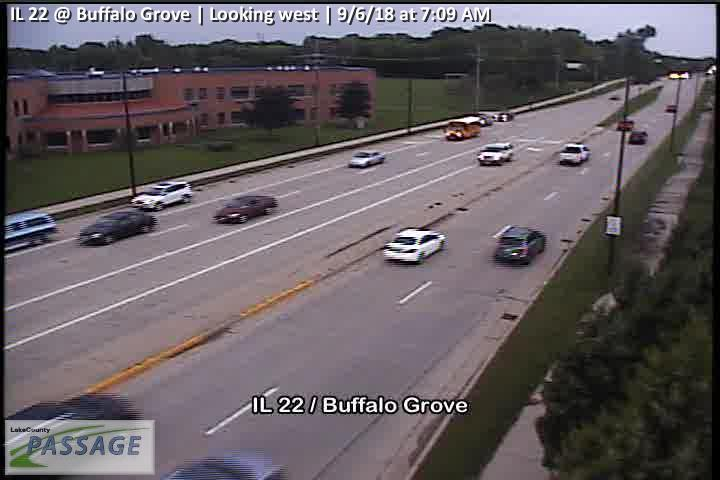SUV: (1, 210, 59, 248), (493, 226, 546, 264), (131, 181, 193, 211), (476, 142, 513, 165)
Sedan: (77, 210, 157, 244), (382, 227, 447, 264), (214, 195, 277, 223), (348, 150, 386, 167)
Truck: (444, 120, 481, 141), (558, 143, 590, 165)
